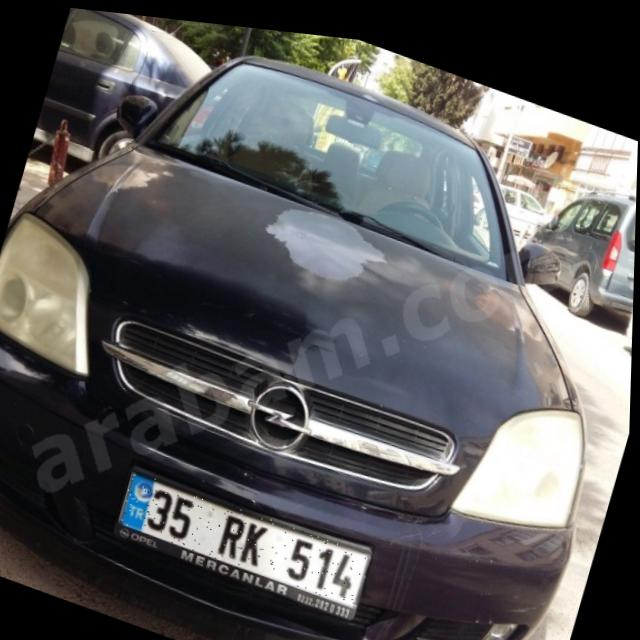license_plate: (118, 465, 375, 602)
